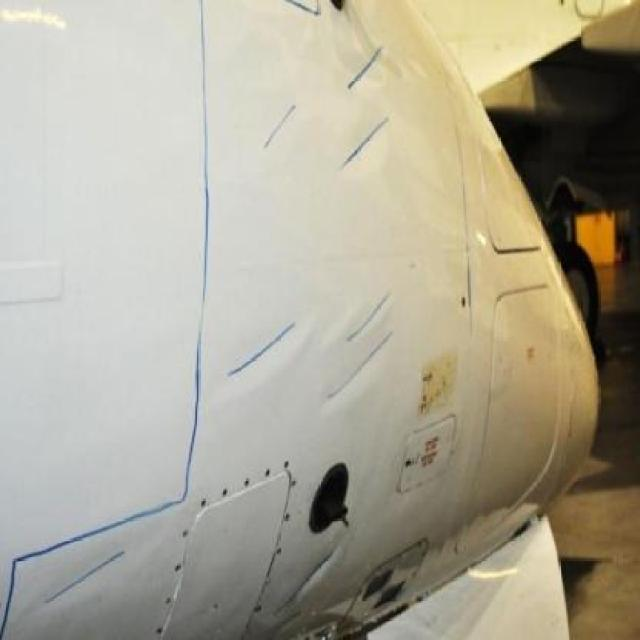dent: (20, 538, 135, 630), (220, 310, 300, 386), (328, 325, 400, 405), (274, 547, 336, 620), (340, 113, 390, 172)
